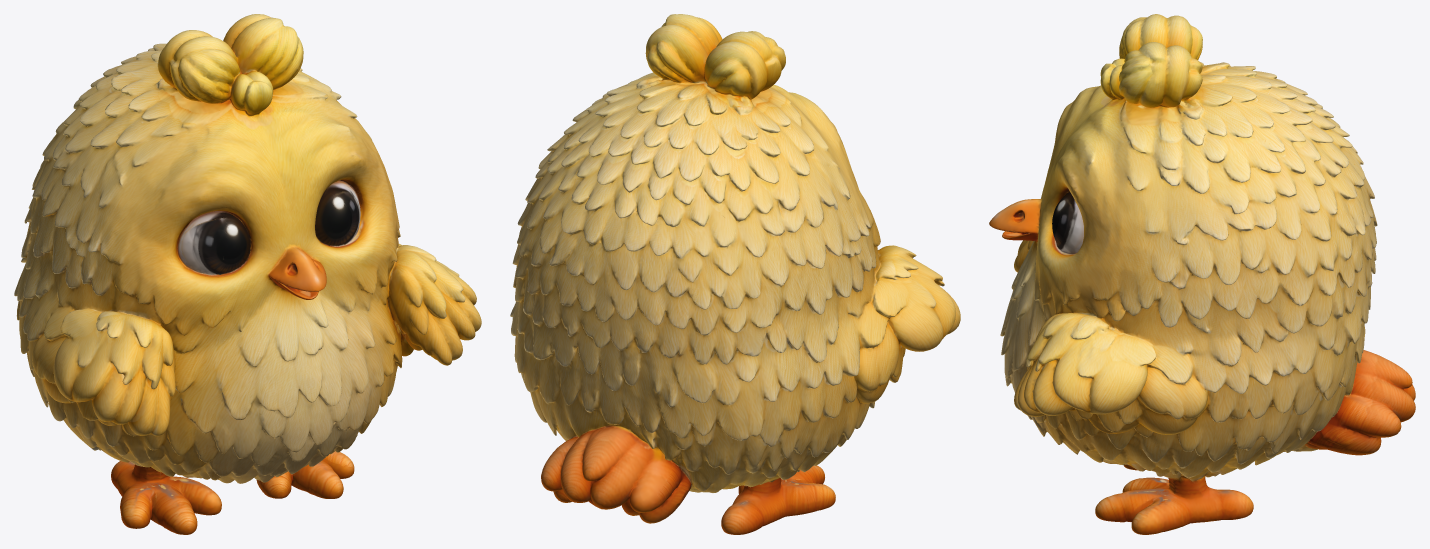
File: varco-source.glb
3 renders of one model, left to right at view 1: azimuth 30°, elevation 25°; view 2: azimuth 150°, elevation 25°; view 3: azimuth 270°, elevation 25°, orthographic. The views are drawn at different scales.
Visible parts, largest first — view 1: texture_mapping; view 2: texture_mapping; view 3: texture_mapping.
Part boxes in pixels (x1,y1,x2,y2): texture_mapping: [14, 14, 481, 534]; texture_mapping: [510, 14, 960, 534]; texture_mapping: [989, 14, 1415, 534].
Bounding box in the file's own units: 0.8914 × 0.9998 × 0.8496.
1 material, 1 textured.
